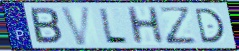B: (29, 6, 64, 46)
D: (193, 7, 227, 45)
H: (124, 6, 167, 46)
L: (98, 6, 130, 45)
V: (59, 5, 93, 47)
Z: (157, 5, 200, 46)
